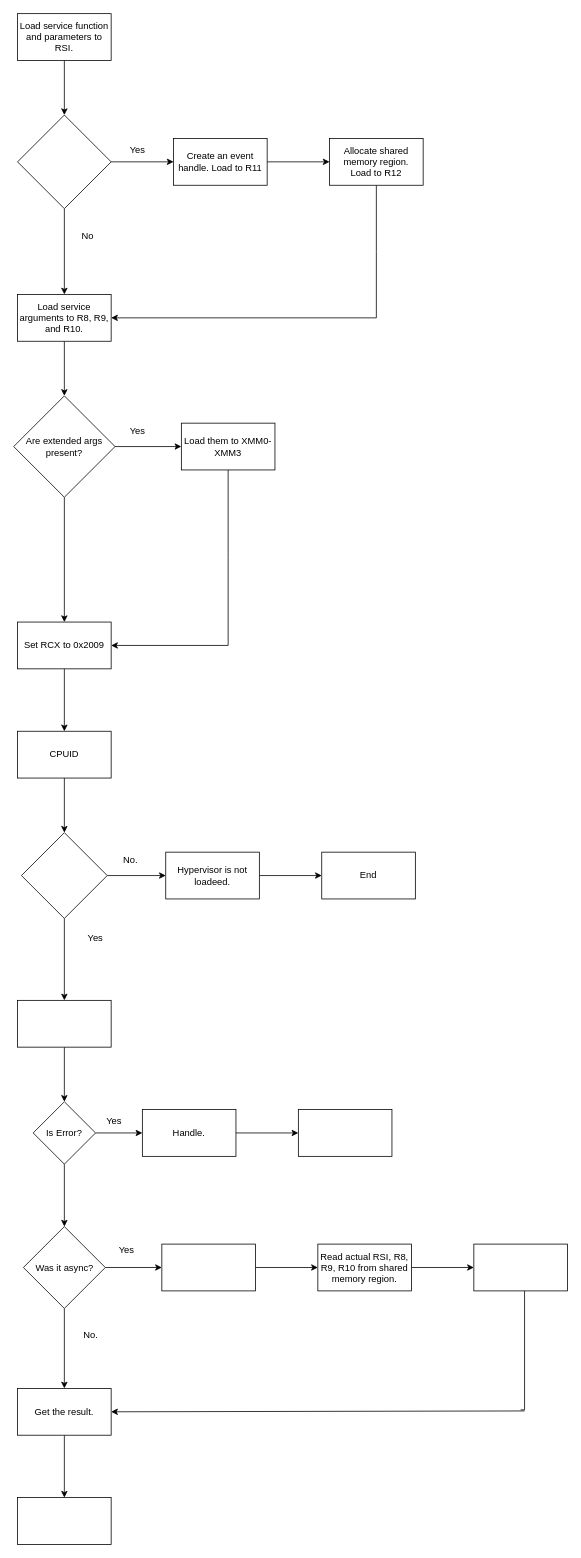
The diagram is 581 pixels wide and 1558 high, and some of its shapes have lost their labels. Each missing label, with the box of its shape:
Close handle and deallocate.: (473, 1243, 567, 1291)
End.: (17, 1497, 111, 1544)
Is RCX same?: (21, 832, 107, 918)
Read result from RSI.: (17, 1000, 111, 1047)
Repeat?: (298, 1109, 392, 1156)
Wait for event to signal.: (161, 1243, 255, 1291)
Will the call be async?: (17, 114, 111, 209)
